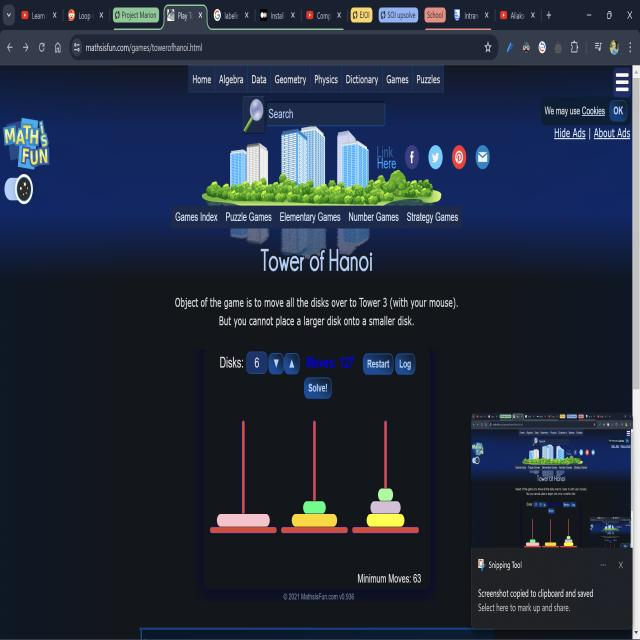disk1: (378, 488, 393, 501)
disk2: (303, 501, 326, 514)
disk3: (370, 501, 401, 514)
disk4: (366, 514, 404, 526)
disk5: (292, 514, 337, 526)
disk6: (217, 514, 270, 527)
